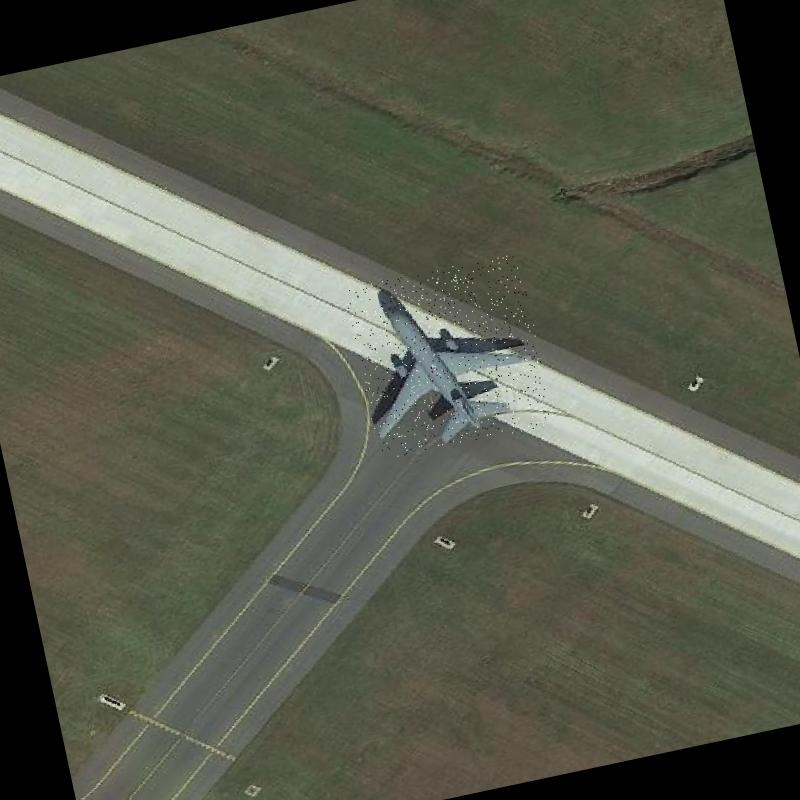A18: (344, 252, 556, 461)
